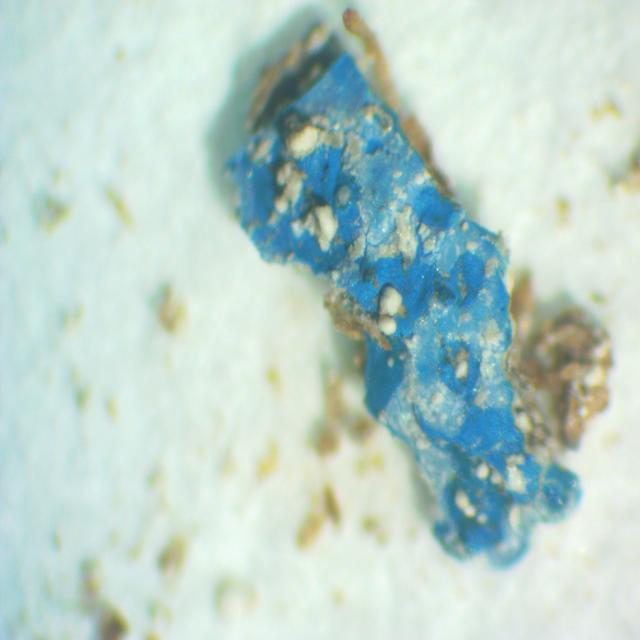microplastic: (239, 49, 574, 568)
